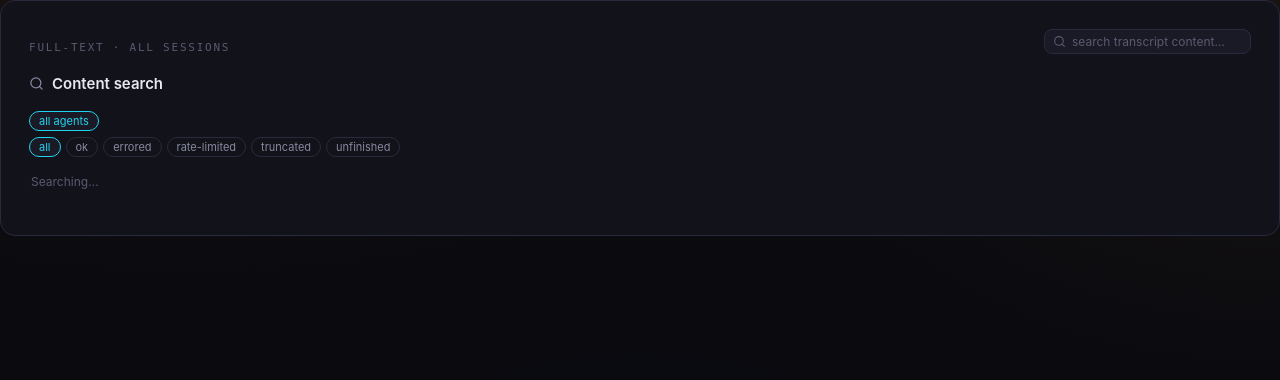
it: ContentSearchPanel › a query with no matches shows the empty state
Type "nope" into the search field labelled "search transcript content…" at point(1157, 42), box top-left (1072, 34), bottom-right (1242, 49)
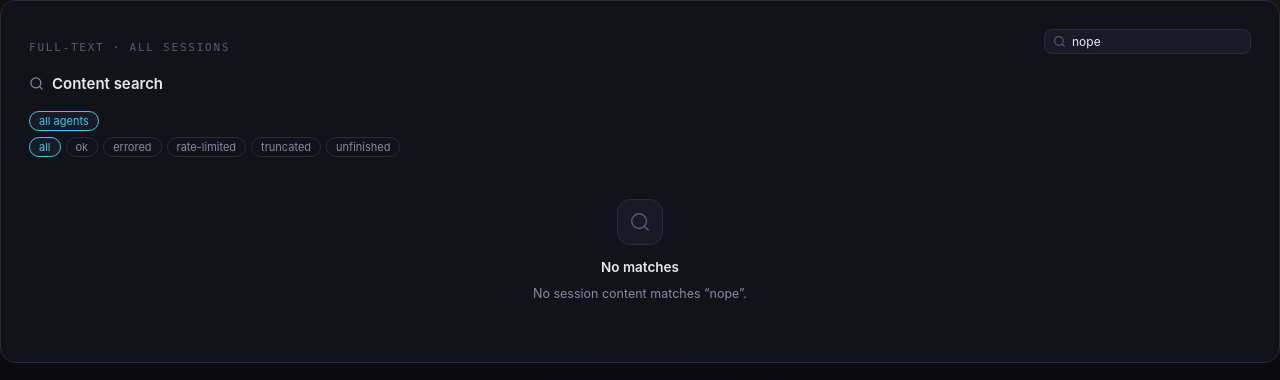
Check: the text "No matches" is shown, box top-left (601, 257), bottom-right (679, 277)
